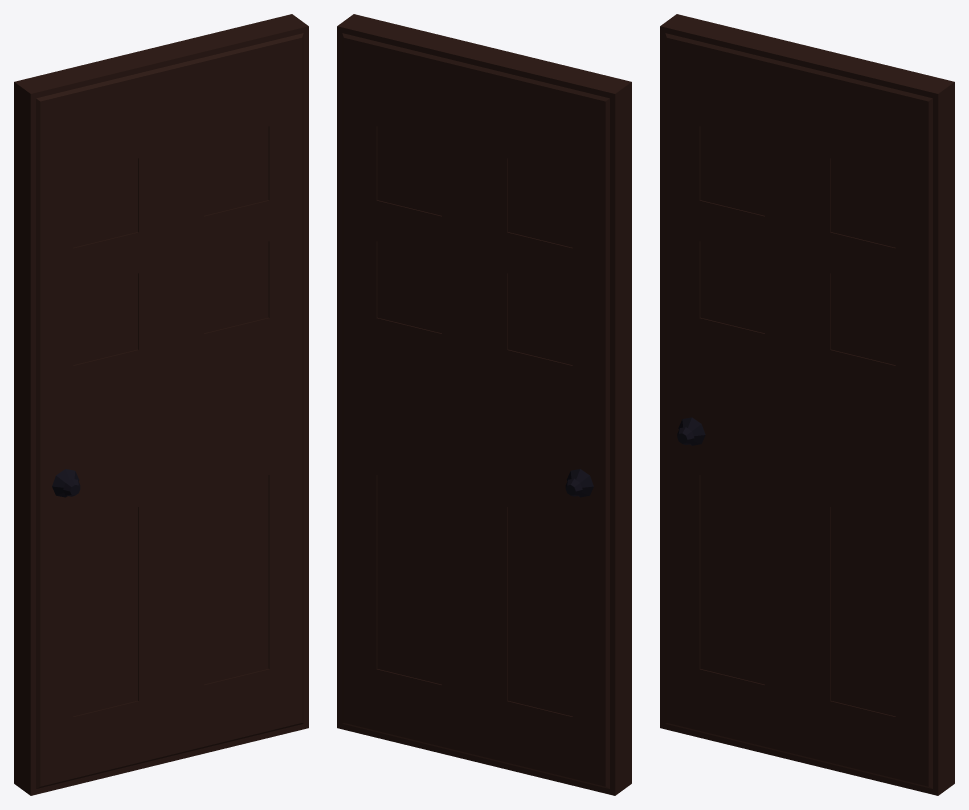
3 renders of one model, left to right at view 1: azimuth 30°, elevation 25°; view 2: azimuth 150°, elevation 25°; view 3: azimuth 330°, elevation 25°, orthographic.
Visible parts, largest first — view 1: Door_2_Cube.002; view 2: Door_2_Cube.002; view 3: Door_2_Cube.002.
Boxes of the visible parts, x1,y1,x2,y2 form: Door_2_Cube.002: [14, 14, 308, 795]; Door_2_Cube.002: [337, 14, 631, 795]; Door_2_Cube.002: [660, 14, 954, 795].
Size of the model in its own units: 1.74 by 4.2 by 0.4211.
